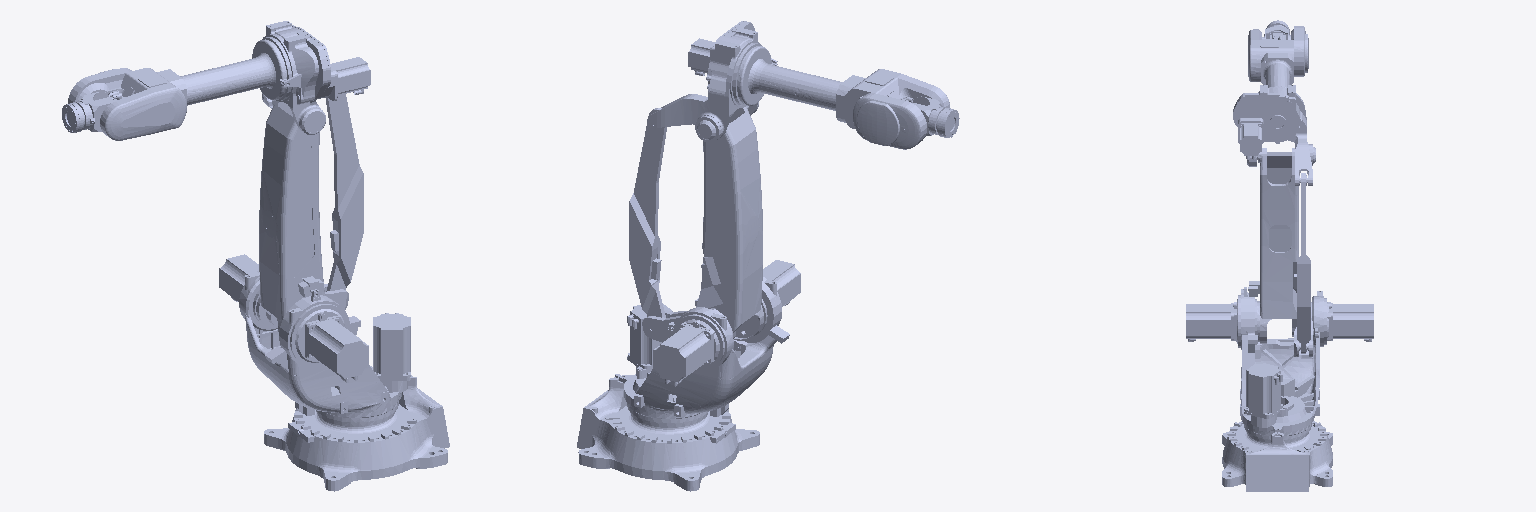
The robot description file, URDF, robot "comau_nj_130_2_6":
<?xml version="1.0" encoding="utf-8"?>
<!-- This URDF was automatically created by SolidWorks to URDF Exporter! Originally created by [author] ([email redacted]) 
     Commit Version: 1.6.0-1-g15f4949  Build Version: 1.6.7594.29634
     For more information, please see http://wiki.ros.org/sw_urdf_exporter -->
<robot
  name="comau_nj_130_2_6">
  <link
    name="base_link">
    <inertial>
      <origin
        xyz="0.036185 0.13225 -3.0714E-05"
        rpy="0 0 0" />
      <mass
        value="98.712" />
      <inertia
        ixx="3.2685"
        ixy="-0.0025229"
        ixz="0.00061533"
        iyy="6.1022"
        iyz="-3.6311E-05"
        izz="4.2691" />
    </inertial>
    <visual>
      <origin
        xyz="0 0 0"
        rpy="0 0 0" />
      <geometry>
        <mesh
          filename="package://comau_nj_130_2_6/meshes/base_link.STL" />
      </geometry>
      <material
        name="">
        <color
          rgba="0.79216 0.81961 0.93333 1" />
      </material>
    </visual>
    <collision>
      <origin
        xyz="0 0 0"
        rpy="0 0 0" />
      <geometry>
        <mesh
          filename="package://comau_nj_130_2_6/meshes/base_link.STL" />
      </geometry>
    </collision>
  </link>
  <link
    name="shoulder_span_link">
    <inertial>
      <origin
        xyz="-0.22382 0.33808 0.018249"
        rpy="0 0 0" />
      <mass
        value="79.319" />
      <inertia
        ixx="8.6387"
        ixy="1.9029"
        ixz="-0.33435"
        iyy="9.0564"
        iyz="0.10825"
        izz="6.5008" />
    </inertial>
    <visual>
      <origin
        xyz="0 0 0"
        rpy="0 0 0" />
      <geometry>
        <mesh
          filename="package://comau_nj_130_2_6/meshes/shoulder_span_link.STL" />
      </geometry>
      <material
        name="">
        <color
          rgba="0.79216 0.81961 0.93333 1" />
      </material>
    </visual>
    <collision>
      <origin
        xyz="0 0 0"
        rpy="0 0 0" />
      <geometry>
        <mesh
          filename="package://comau_nj_130_2_6/meshes/shoulder_span_link.STL" />
      </geometry>
    </collision>
  </link>
  <joint
    name="shoulder_span_joint"
    type="revolute">
    <origin
      xyz="0 0 0.331"
      rpy="1.5708 0 0" />
    <parent
      link="base_link" />
    <child
      link="shoulder_span_link" />
    <axis
      xyz="0 1 0" />
    <limit
      lower="-3.1415927"
      upper="3.1415927"
      effort="100"
      velocity="1.9198622" />
  </joint>
  <link
    name="shoulder_lift_link">
    <inertial>
      <origin
        xyz="-0.023928 0.524 -0.1597"
        rpy="0 0 0" />
      <mass
        value="22.854" />
      <inertia
        ixx="3.1775"
        ixy="0.0072"
        ixz="-0.0069704"
        iyy="0.34144"
        iyz="0.051189"
        izz="3.0696" />
    </inertial>
    <visual>
      <origin
        xyz="0 0 0"
        rpy="0 0 0" />
      <geometry>
        <mesh
          filename="package://comau_nj_130_2_6/meshes/shoulder_lift_link.STL" />
      </geometry>
      <material
        name="">
        <color
          rgba="0.79216 0.81961 0.93333 1" />
      </material>
    </visual>
    <collision>
      <origin
        xyz="0 0 0"
        rpy="0 0 0" />
      <geometry>
        <mesh
          filename="package://comau_nj_130_2_6/meshes/shoulder_lift_link.STL" />
      </geometry>
    </collision>
  </link>
  <joint
    name="shoulder_lift_joint"
    type="revolute">
    <origin
      xyz="-0.35 0.499 0.1355"
      rpy="0 0 0" />
    <parent
      link="shoulder_span_link" />
    <child
      link="shoulder_lift_link" />
    <axis
      xyz="0 0 1" />
    <limit
      lower="-1.3089969"
      upper="1.6580628"
      effort="100"
      velocity="1.9198622"/>
  </joint>
  <link
    name="elbow_link">
    <inertial>
      <origin
        xyz="0.0082309 0.21402 -0.10188"
        rpy="0 0 0" />
      <mass
        value="28.881" />
      <inertia
        ixx="0.86963"
        ixy="0.084485"
        ixz="-0.082108"
        iyy="0.78297"
        iyz="-0.10415"
        izz="0.68593" />
    </inertial>
    <visual>
      <origin
        xyz="0 0 0"
        rpy="0 0 0" />
      <geometry>
        <mesh
          filename="package://comau_nj_130_2_6/meshes/elbow_link.STL" />
      </geometry>
      <material
        name="">
        <color
          rgba="0.79216 0.81961 0.93333 1" />
      </material>
    </visual>
    <collision>
      <origin
        xyz="0 0 0"
        rpy="0 0 0" />
      <geometry>
        <mesh
          filename="package://comau_nj_130_2_6/meshes/elbow_link.STL" />
      </geometry>
    </collision>
  </link>
  <joint
    name="elbow_joint"
    type="revolute">
    <origin
      xyz="0 1.16 0"
      rpy="0 0 0" />
    <parent
      link="shoulder_lift_link" />
    <child
      link="elbow_link" />
    <axis
      xyz="0 0 1" />
    <limit
      lower="1.25"
      upper="-1.07"
      effort="100"
      velocity="1.9198622" />
  </joint>
  <link
    name="forearm_link">
    <inertial>
      <origin
        xyz="0.0027099 -0.0014244 0.63148"
        rpy="0 0 0" />
      <mass
        value="39.598" />
      <inertia
        ixx="3.4042"
        ixy="0.0059157"
        ixz="-0.0099423"
        iyy="3.136"
        iyz="-0.059333"
        izz="0.5287" />
    </inertial>
    <visual>
      <origin
        xyz="0 0 0"
        rpy="0 0 0" />
      <geometry>
        <mesh
          filename="package://comau_nj_130_2_6/meshes/forearm_link.STL" />
      </geometry>
      <material
        name="">
        <color
          rgba="0.79216 0.81961 0.93333 1" />
      </material>
    </visual>
    <collision>
      <origin
        xyz="0 0 0"
        rpy="0 0 0" />
      <geometry>
        <mesh
          filename="package://comau_nj_130_2_6/meshes/forearm_link.STL" />
      </geometry>
    </collision>
  </link>
  <joint
    name="forearm_joint"
    type="revolute">
    <origin
      xyz="-0.145 0.25 -0.1355"
      rpy="-1.5708 0 1.5708" />
    <parent
      link="elbow_link" />
    <child
      link="forearm_link" />
    <axis
      xyz="0 0 -1" />
    <limit
      lower="-4.8869219"
      upper="4.8869219"
      effort="100"
      velocity="3.3161256" />
  </joint>
  <link
    name="wirst_link">
    <inertial>
      <origin
        xyz="-0.00025542 0.00031294 -0.050138"
        rpy="0 0 0" />
      <mass
        value="4.012" />
      <inertia
        ixx="0.030119"
        ixy="-1.1225E-05"
        ixz="-0.00034724"
        iyy="0.031891"
        iyz="-0.00033358"
        izz="0.011464" />
    </inertial>
    <visual>
      <origin
        xyz="0 0 0"
        rpy="0 0 0" />
      <geometry>
        <mesh
          filename="package://comau_nj_130_2_6/meshes/wirst_link.STL" />
      </geometry>
      <material
        name="">
        <color
          rgba="0.79216 0.81961 0.93333 1" />
      </material>
    </visual>
    <collision>
      <origin
        xyz="0 0 0"
        rpy="0 0 0" />
      <geometry>
        <mesh
          filename="package://comau_nj_130_2_6/meshes/wirst_link.STL" />
      </geometry>
    </collision>
  </link>
  <joint
    name="wirst_joint"
    type="revolute">
    <origin
      xyz="0 0 0.96058"
      rpy="3.1416 0 1.5708" />
    <parent
      link="forearm_link" />
    <child
      link="wirst_link" />
    <axis
      xyz="1 0 0" />
    <limit
      lower="-2.0943951"
      upper="2.0943951"
      effort="100"
      velocity="3.3161256" />
  </joint>
  <link
    name="end_effector_link">
    <inertial>
      <origin
        xyz="-0.027348 -0.0016027 -4.9431E-08"
        rpy="0 0 0" />
      <mass
        value="0.47986" />
      <inertia
        ixx="0.0016185"
        ixy="4.4067E-06"
        ixz="5.5239E-10"
        iyy="0.00089429"
        iyz="3.6015E-11"
        izz="0.00083721" />
    </inertial>
    <visual>
      <origin
        xyz="0 0 0"
        rpy="0 0 0" />
      <geometry>
        <mesh
          filename="package://comau_nj_130_2_6/meshes/end_effector_link.STL" />
      </geometry>
      <material
        name="">
        <color
          rgba="0.79216 0.81961 0.93333 1" />
      </material>
    </visual>
    <collision>
      <origin
        xyz="0 0 0"
        rpy="0 0 0" />
      <geometry>
        <mesh
          filename="package://comau_nj_130_2_6/meshes/end_effector_link.STL" />
      </geometry>
    </collision>
  </link>
  <joint
    name="end_effector_joint"
    type="revolute">
    <origin
      xyz="0 0 -0.165"
      rpy="3.1416 -1.5708 0" />
    <parent
      link="wirst_link" />
    <child
      link="end_effector_link" />
    <axis
      xyz="-1 0 0" />
    <limit
      lower="-47.1238898"
      upper="47.1238898"
      effort="100"
      velocity="4.0142573" />
  </joint>
  <link
    name="arm_link_a">
    <inertial>
      <origin
        xyz="0.16357 -0.0098618 -0.069464"
        rpy="0 0 0" />
      <mass
        value="4.3288" />
      <inertia
        ixx="0.015457"
        ixy="0.0038178"
        ixz="0.0005125"
        iyy="0.065375"
        iyz="-0.00016591"
        izz="0.072811" />
    </inertial>
    <visual>
      <origin
        xyz="0 0 0"
        rpy="0 0 0" />
      <geometry>
        <mesh
          filename="package://comau_nj_130_2_6/meshes/arm_link_a.STL" />
      </geometry>
      <material
        name="">
        <color
          rgba="0.79216 0.81961 0.93333 1" />
      </material>
    </visual>
    <collision>
      <origin
        xyz="0 0 0"
        rpy="0 0 0" />
      <geometry>
        <mesh
          filename="package://comau_nj_130_2_6/meshes/arm_link_a.STL" />
      </geometry>
    </collision>
  </link>
  <joint
    name="arm_joint_a"
    type="revolute">
    <origin
      xyz="0 0 -0.233"
      rpy="0 0 -0.087266" />
    <parent
      link="shoulder_lift_link" />
    <child
      link="arm_link_a" />
    <axis
      xyz="0 0 1" />
    <limit
      lower="-0.1745329"
      upper="-4.4680429"
      effort="100"
      velocity="1.9198622" />
    <mimic
      joint="elbow_joint"
      multiplier="1"
      offset="0" />
  </joint>
  <link
    name="arm_link_b">
    <inertial>
      <origin
        xyz="0.065147 0.50884 -0.055253"
        rpy="0 0 0" />
      <mass
        value="7.5793" />
      <inertia
        ixx="0.66737"
        ixy="0.017501"
        ixz="4.6999E-05"
        iyy="0.018083"
        iyz="-0.0002257"
        izz="0.67895" />
    </inertial>
    <visual>
      <origin
        xyz="0 0 0"
        rpy="0 0 0" />
      <geometry>
        <mesh
          filename="package://comau_nj_130_2_6/meshes/arm_link_b.STL" />
      </geometry>
      <material
        name="">
        <color
          rgba="0.79216 0.81961 0.93333 1" />
      </material>
    </visual>
    <collision>
      <origin
        xyz="0 0 0"
        rpy="0 0 0" />
      <geometry>
        <mesh
          filename="package://comau_nj_130_2_6/meshes/arm_link_b.STL" />
      </geometry>
    </collision>
  </link>
  <joint
    name="arm_joint_b"
    type="revolute">
    <origin
      xyz="0.32 0 -0.012"
      rpy="0 0 0.087266" />
    <parent
      link="arm_link_a" />
    <child
      link="arm_link_b" />
    <axis
      xyz="0 0 1" />
    <limit
      lower="0"
      upper="0"
      effort="0"
      velocity="0" />
    <mimic
      joint="arm_joint_a"
      multiplier="-1"
      offset="0" />
  </joint>
</robot>

--- Render facts (derived) ---
The picture shows the robot from 3 angles, left to right: view 1: azimuth 30°, elevation 25°; view 2: azimuth 150°, elevation 25°; view 3: azimuth 270°, elevation 25°; orthographic projection.
Model comau_nj_130_2_6 with 9 links and 8 joints (8 revolute), rooted at base_link, posed joints at zero except 1 at the middle of their limits (, +1 more).
Links seen in each view (by area): view 1: shoulder_span_link, base_link, shoulder_lift_link, forearm_link, elbow_link, arm_link_b, wirst_link, end_effector_link, arm_link_a; view 2: shoulder_span_link, shoulder_lift_link, base_link, forearm_link, elbow_link, arm_link_b, arm_link_a, wirst_link, end_effector_link; view 3: shoulder_span_link, shoulder_lift_link, base_link, elbow_link, forearm_link, arm_link_b.
Link boxes in pixels (<box>): shoulder_span_link: <box>219,254,410,415</box>; base_link: <box>264,375,449,491</box>; shoulder_lift_link: <box>259,101,324,331</box>; forearm_link: <box>68,39,286,140</box>; elbow_link: <box>262,21,370,134</box>; arm_link_b: <box>325,94,363,291</box>; wirst_link: <box>76,90,124,131</box>; end_effector_link: <box>62,102,84,132</box>; arm_link_a: <box>256,284,348,327</box>; shoulder_span_link: <box>619,260,800,416</box>; shoulder_lift_link: <box>696,106,763,340</box>; base_link: <box>577,374,759,491</box>; forearm_link: <box>738,46,949,149</box>; elbow_link: <box>647,21,777,142</box>; arm_link_b: <box>629,108,666,317</box>; arm_link_a: <box>642,308,732,342</box>; wirst_link: <box>900,96,944,136</box>; end_effector_link: <box>937,108,959,137</box>; shoulder_span_link: <box>1186,287,1373,432</box>; shoulder_lift_link: <box>1248,148,1298,343</box>; base_link: <box>1222,421,1332,491</box>; elbow_link: <box>1233,85,1315,185</box>; forearm_link: <box>1248,26,1308,87</box>; arm_link_b: <box>1297,173,1310,353</box>.
Bounding box of the posed robot: 2.1 × 1.18 × 2.43 m (x, y, z).
Meshes: 9 distinct files referenced, 9 mesh visuals loaded (9 binary STL).